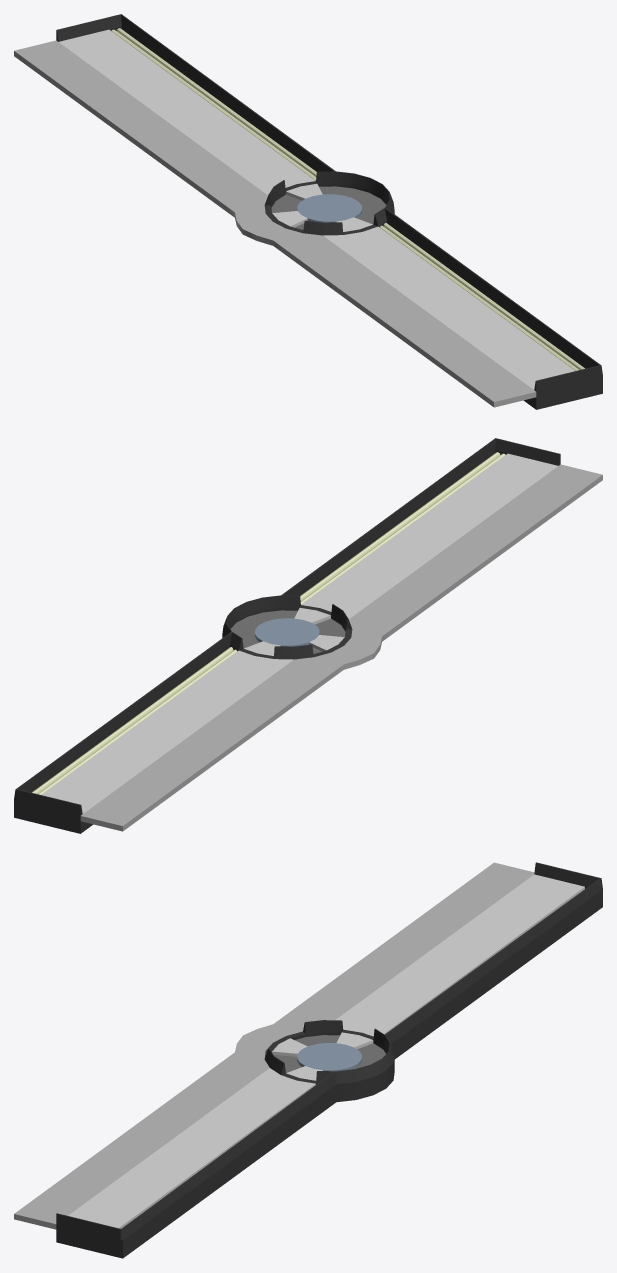
Rendered from Start02.fbx.
The picture shows the model from 3 angles, top to bottom: view 1: azimuth 30°, elevation 25°; view 2: azimuth 150°, elevation 25°; view 3: azimuth 330°, elevation 25°; orthographic projection.
Visible parts, largest first — view 1: polySurface3; view 2: polySurface3; view 3: polySurface3.
Part boxes in pixels (left/top/right/bottom): polySurface3: left=14, top=14, right=602, bottom=409; polySurface3: left=14, top=438, right=602, bottom=833; polySurface3: left=14, top=862, right=602, bottom=1258.
Bounding box in the file's own units: 2.53 × 0.4876 × 14.68.
